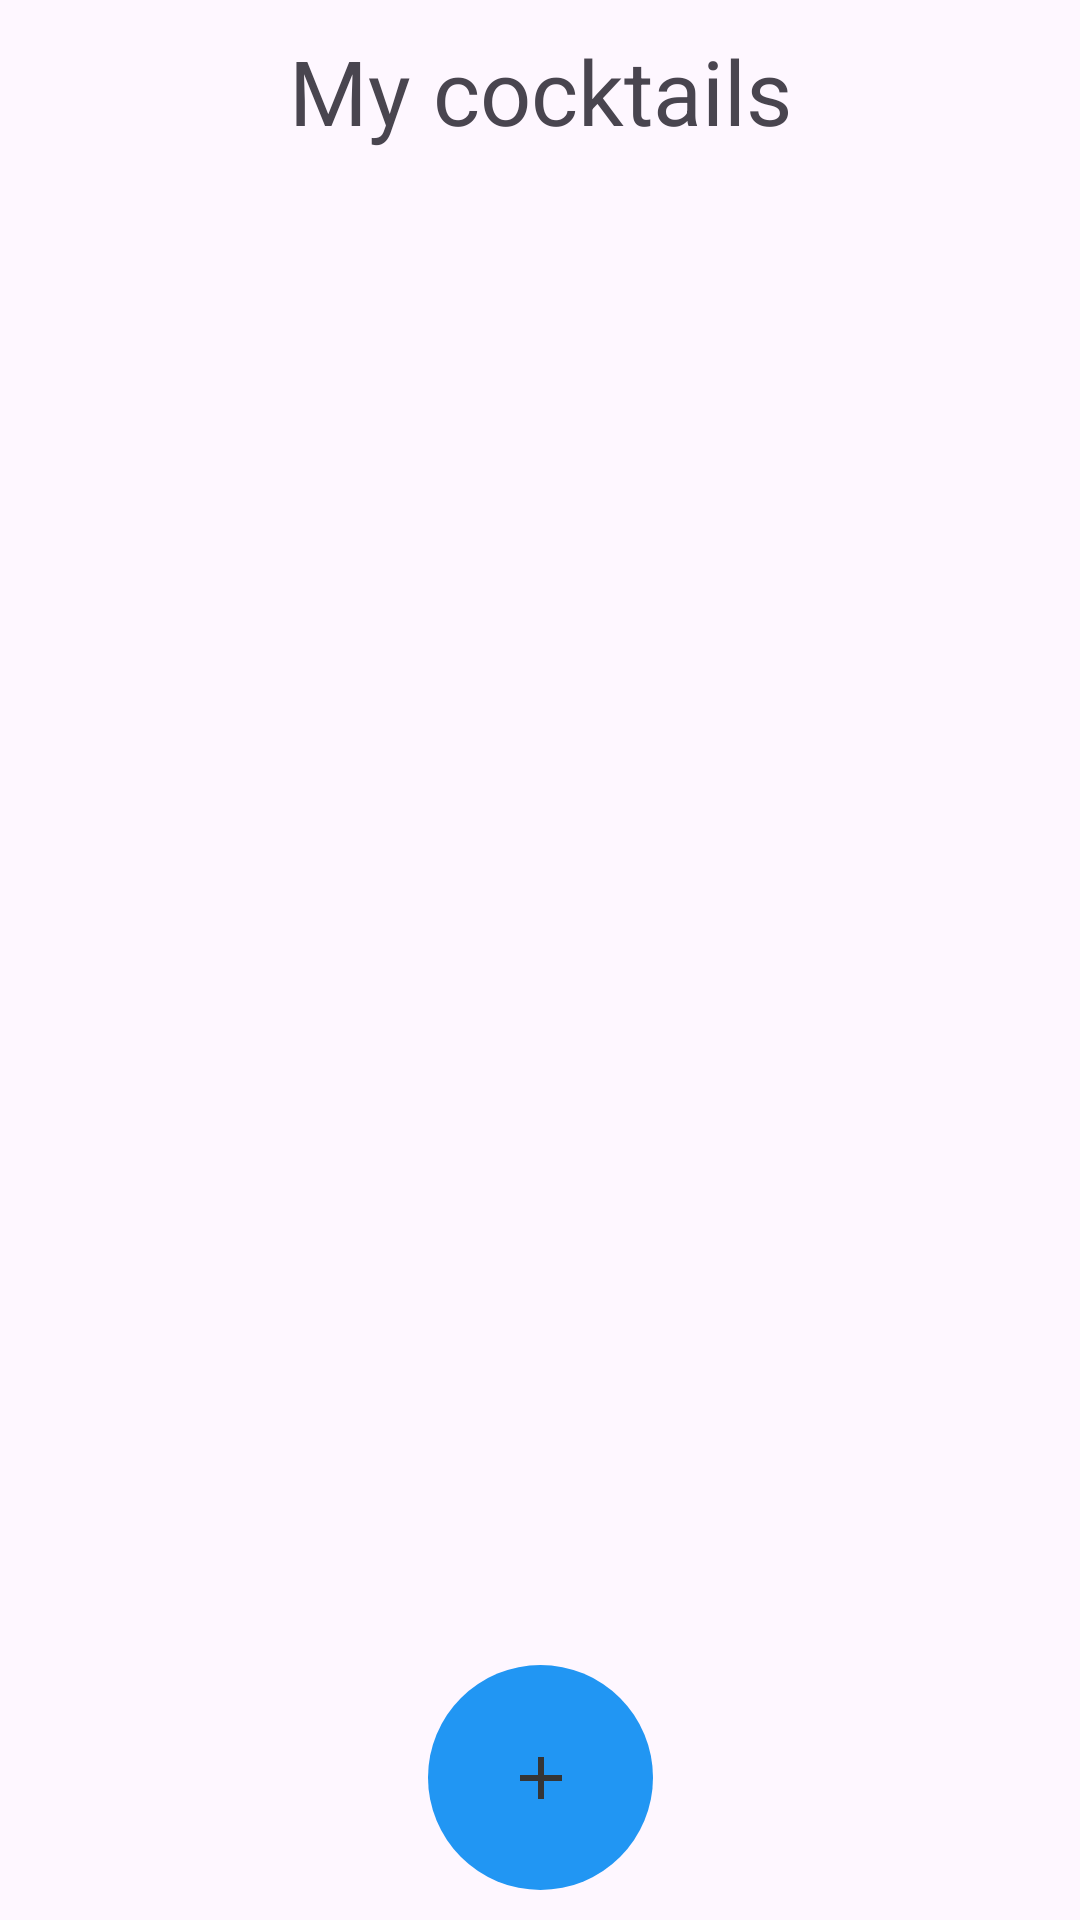

Locate icon controls on the screen. Image size 1080px×1920px, boxes as rect(x1, y1, x2, y2).
add: rect(428, 1665, 653, 1890)
